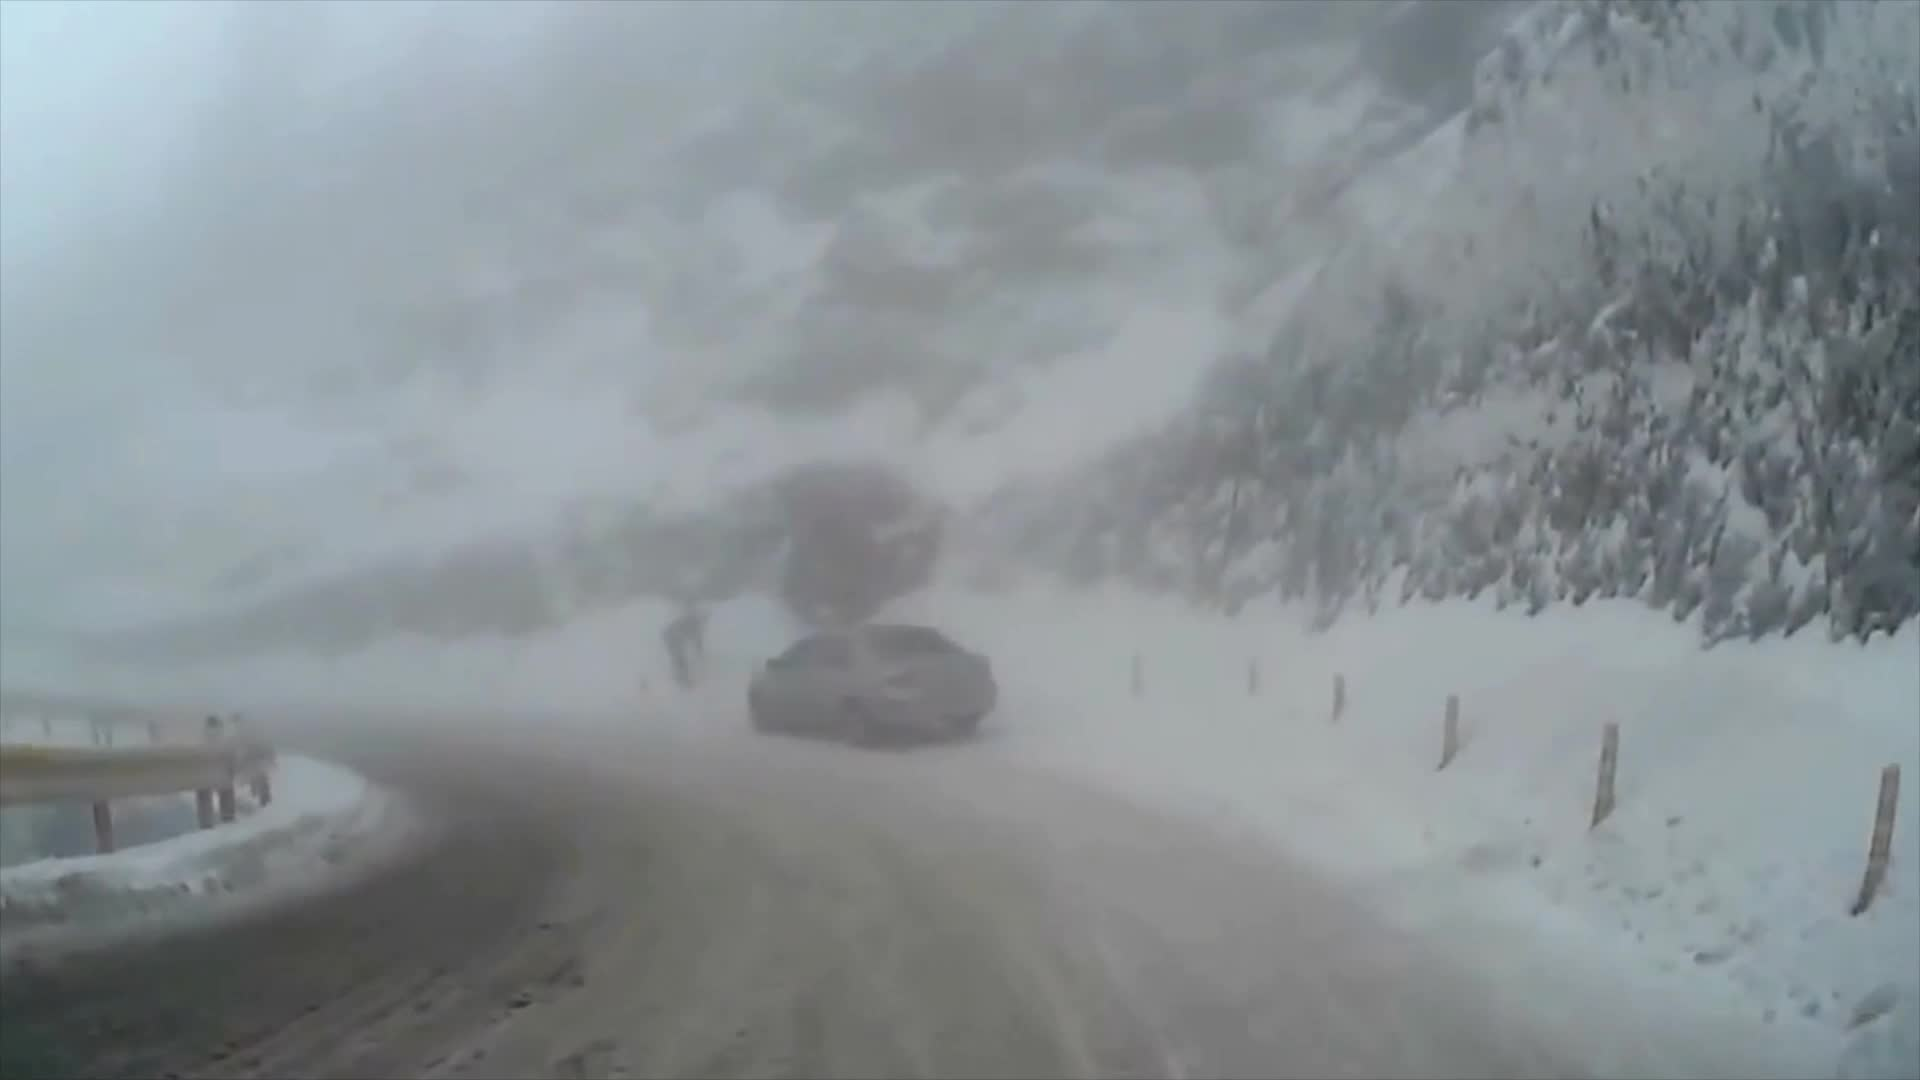pedestrian: (662, 613, 708, 693)
vehicle: (744, 623, 992, 747)
